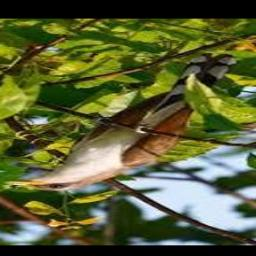Cuckoo: (5, 53, 237, 191)
